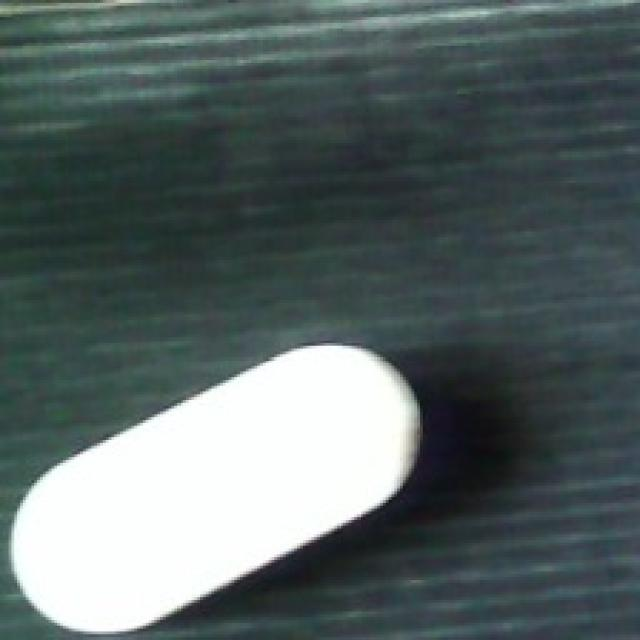no-defect: (3, 338, 428, 640)
